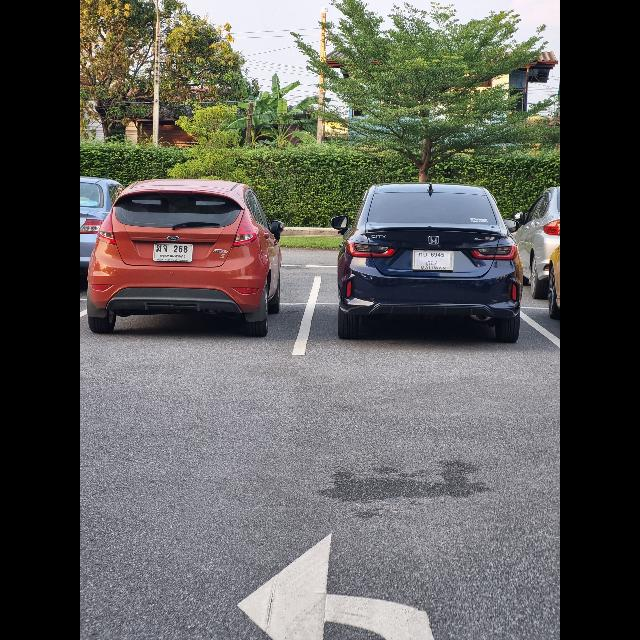licenseplate: (414, 248, 454, 272), (153, 244, 193, 262)
